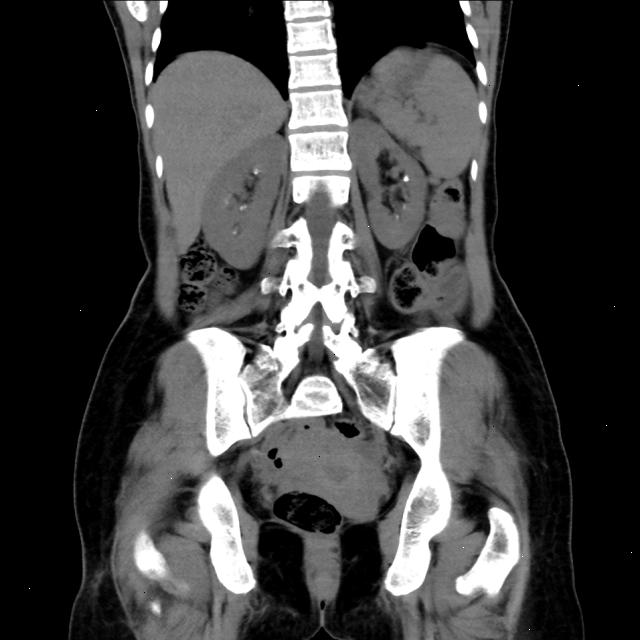kidneystone: (403, 175, 409, 182)
